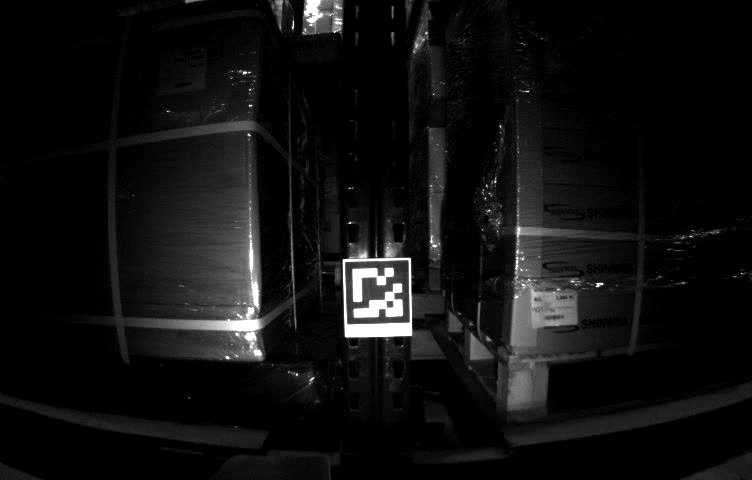True Barcode: (155, 50, 205, 94)
